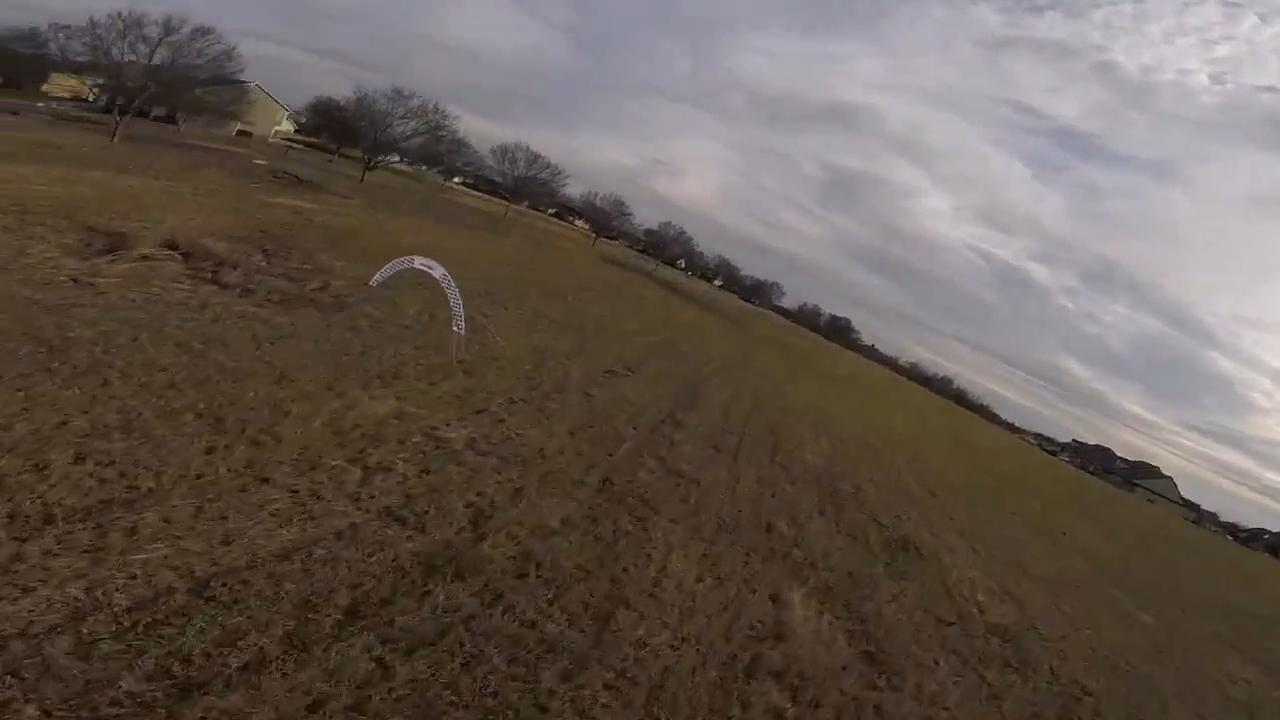gate: (365, 253, 462, 342)
